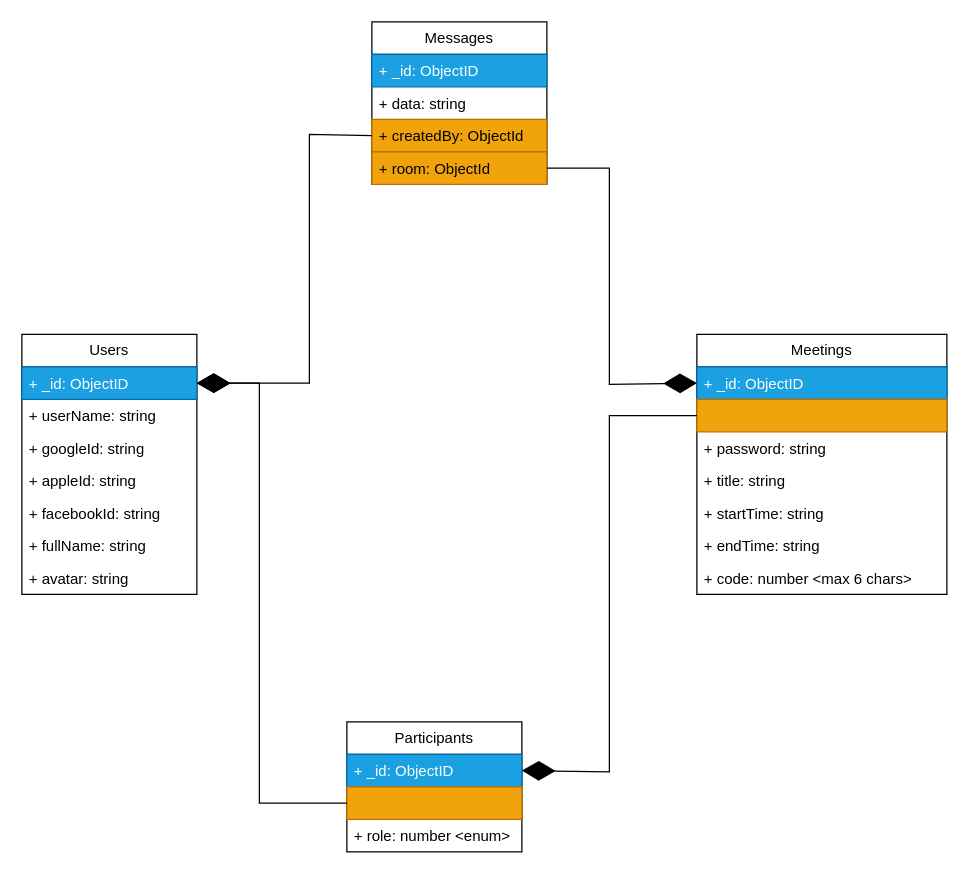
Image size: 969x878. Some labels were removed from this diagram. The shapes that lost their labels are listed below. From the top down, each one's centre as x and y in pixels, then its label:
the point at 821,415: + users: Array<Participant>
the point at 434,802: + user: ObjectID
